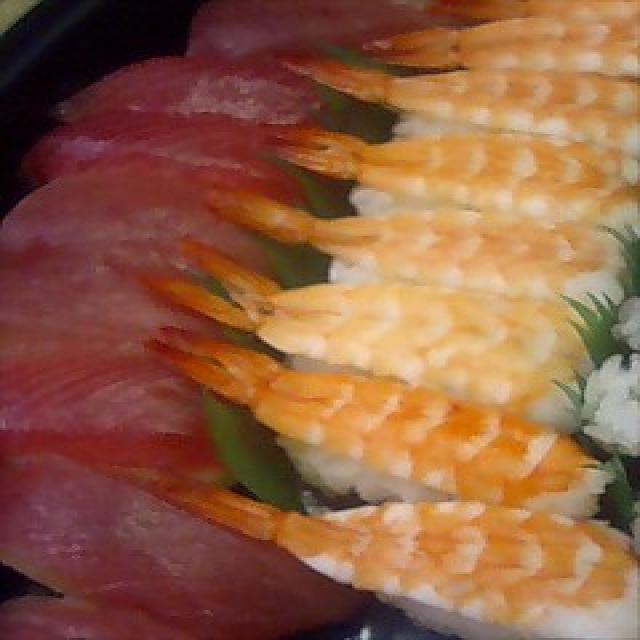寿司卷物: (27, 28, 629, 624)
